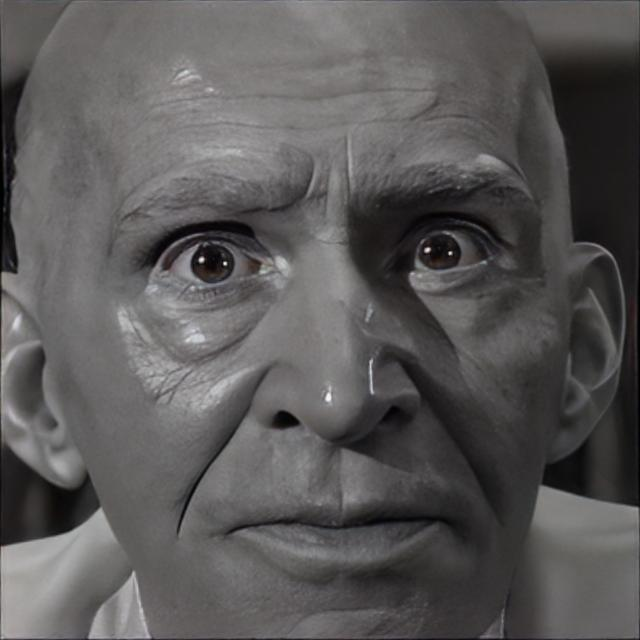fear: (14, 0, 574, 640)
